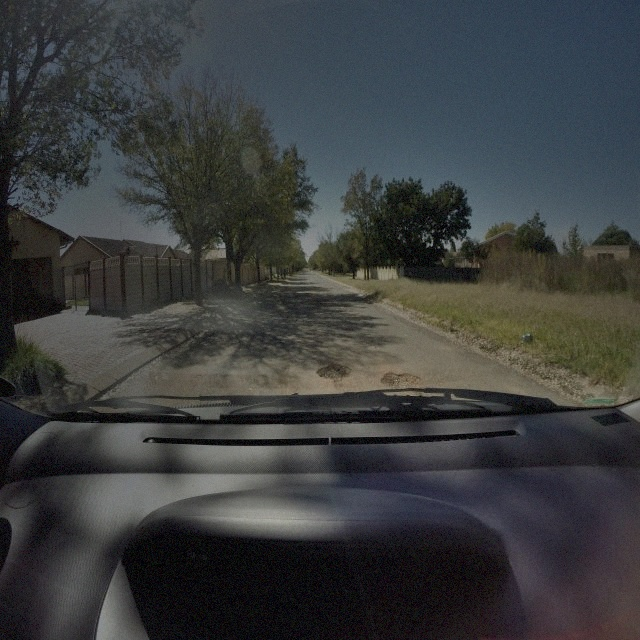pothole: (378, 370, 424, 392), (314, 361, 352, 382)
